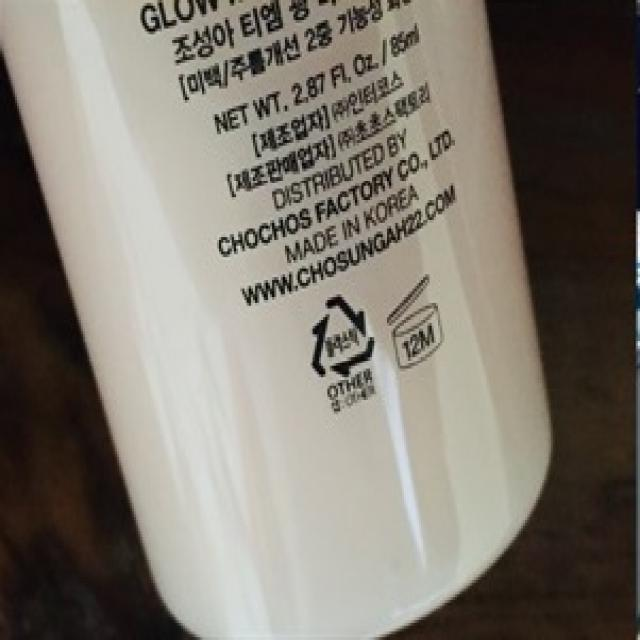Plastic: (306, 290, 378, 383)
